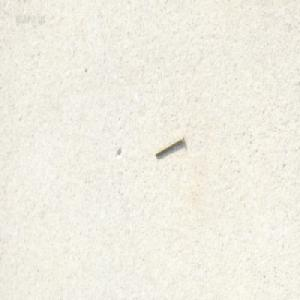Bolt: (153, 133, 184, 157)
